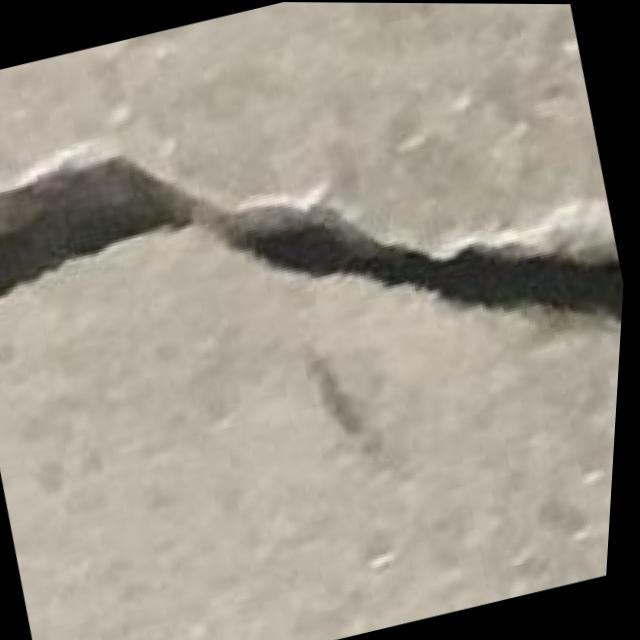Crack: (0, 0, 640, 497)
